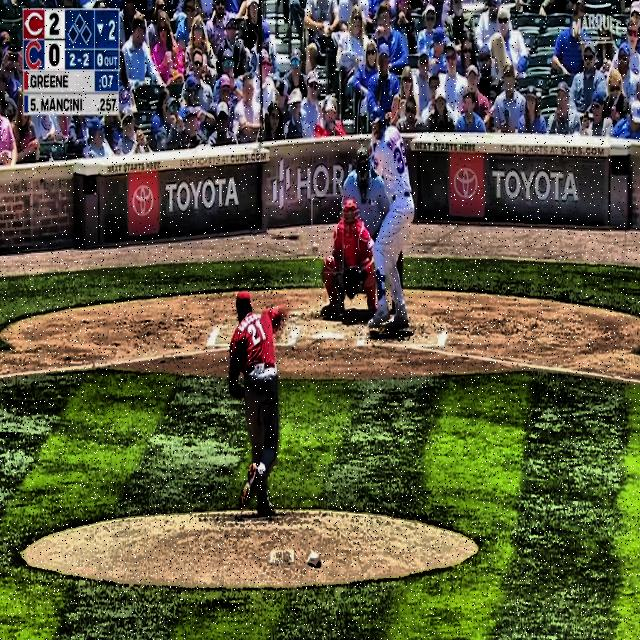baseball: (311, 241, 319, 255)
